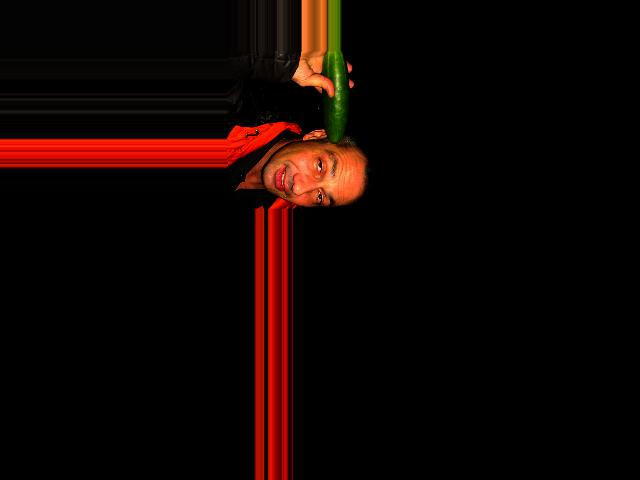cucumber: (322, 50, 349, 144)
